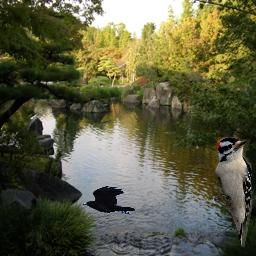Crow: (82, 186, 135, 215)
Woodpecker: (213, 137, 252, 247)
